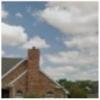chimneys: (28, 46, 40, 90)
